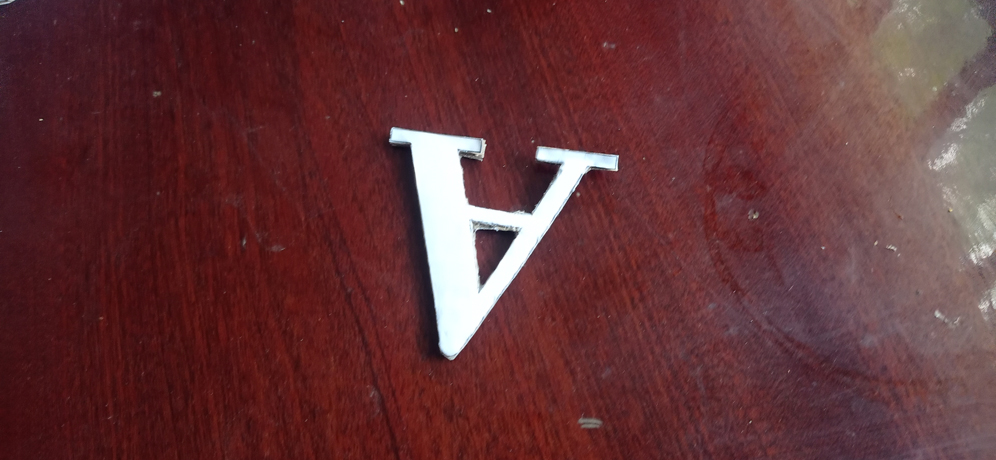a: (389, 124, 620, 365)
